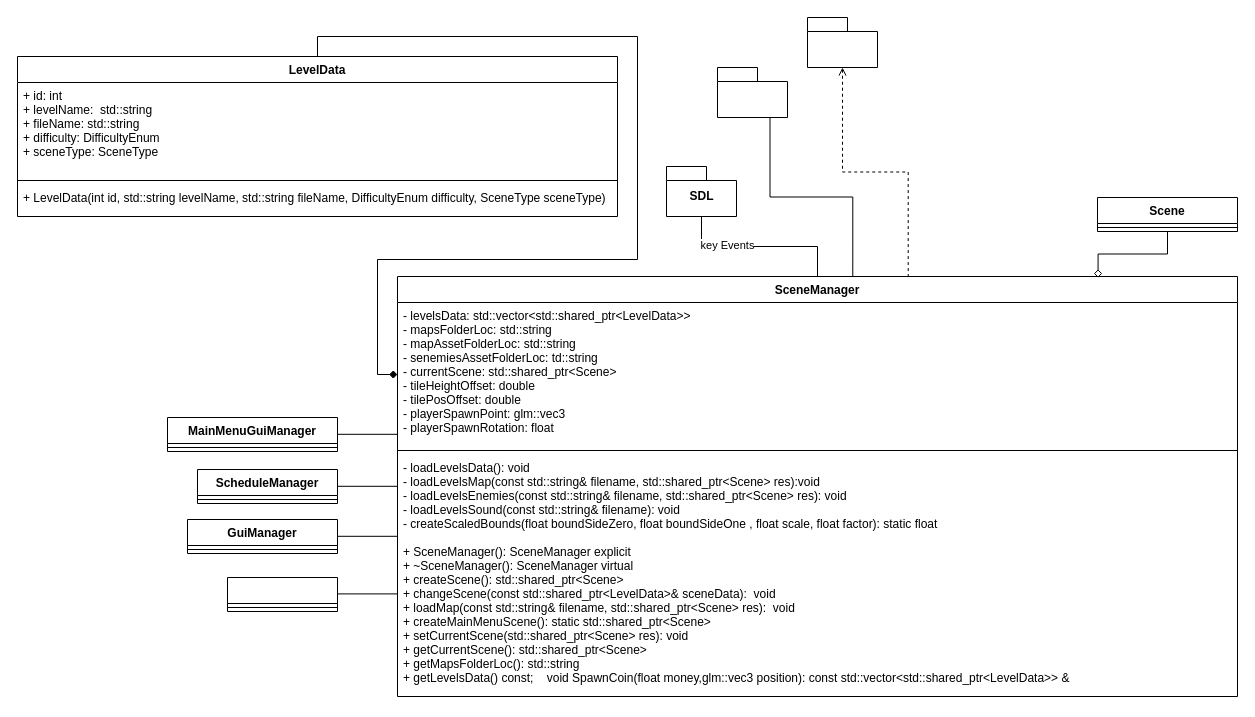
This 1255x717 diagram has some shape labels left out. Here are the shapes that lost their labels. From the top down, the centre of each, then its label:
At point 842,42: "RapidJson".
At point 752,92: "IMGui".
At point 282,594: "LevelGuiManager".
